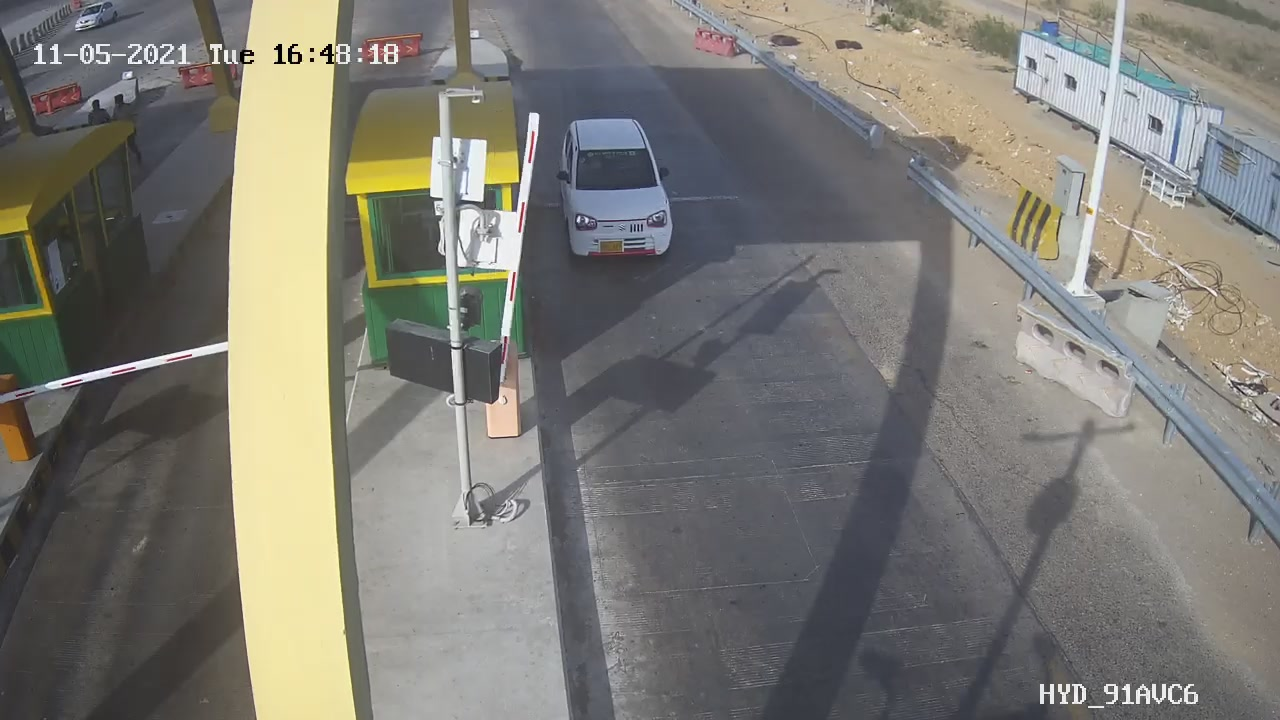F1: (544, 108, 692, 269)
